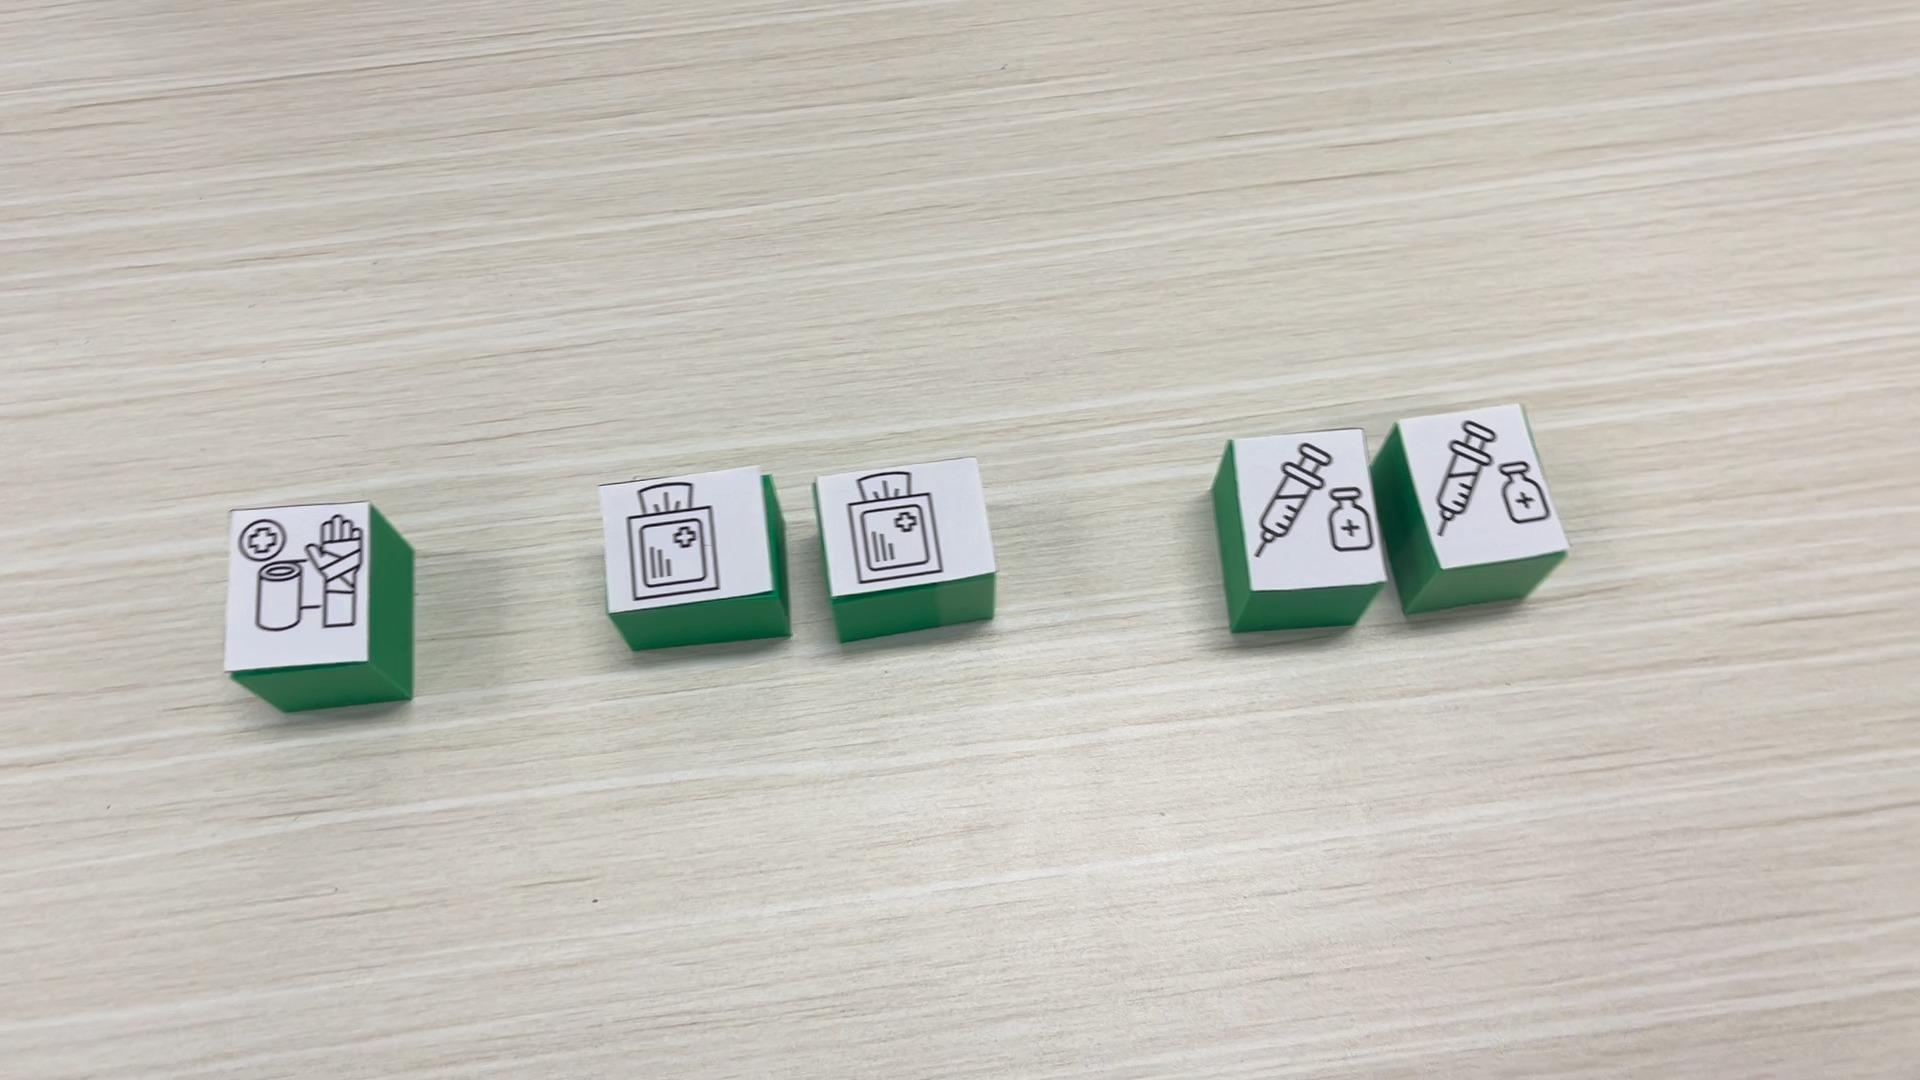Bandages: (227, 498, 415, 712)
Gauze: (596, 463, 791, 651), (816, 454, 1000, 642)
antiseptic cream: (1366, 400, 1571, 622), (1213, 430, 1390, 634)
